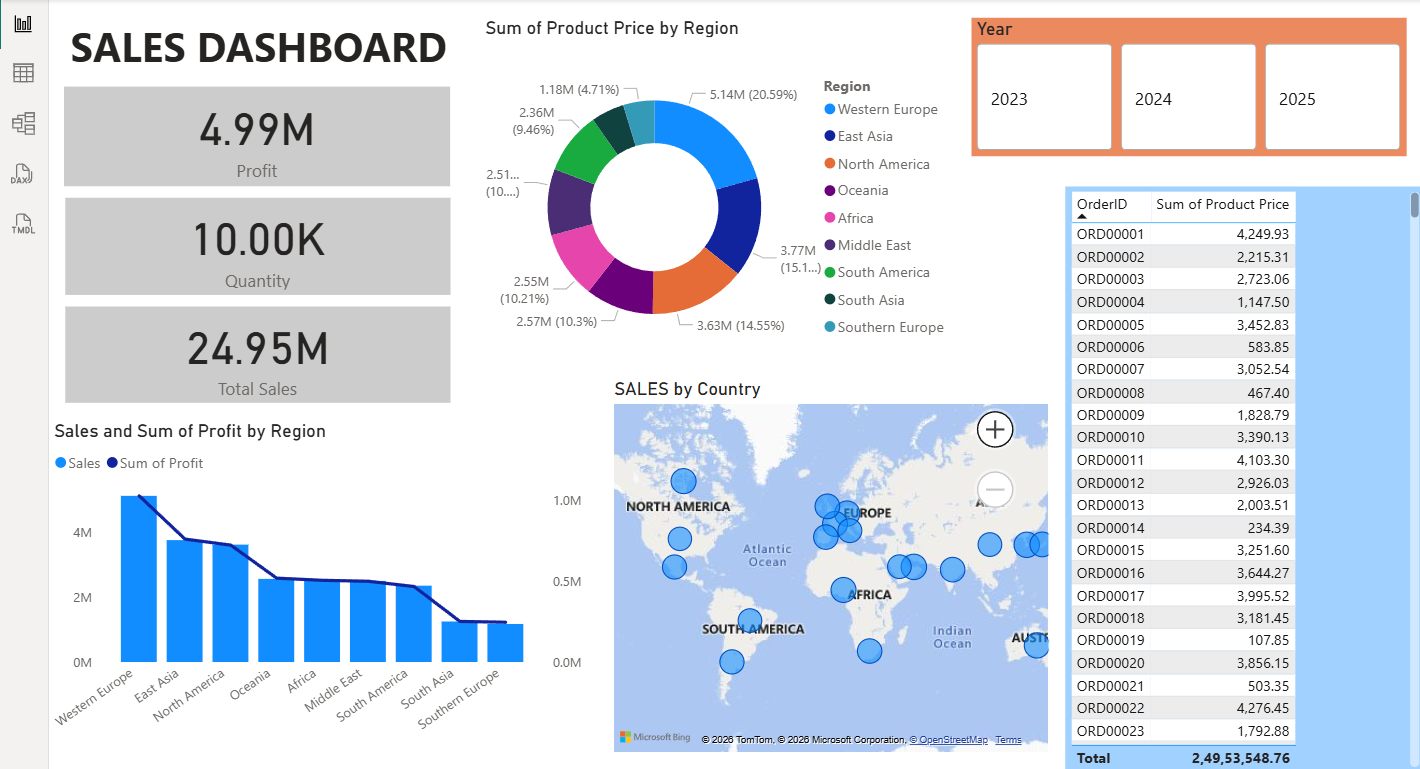

What the dashboard file says about the page in this screenshot:
{"tool":"powerbi","page":{"name":"Page 1","canvas":[1280,720],"ordinal":0},"visuals":[{"type":"card","fields":{"Values":["Sum(Orders.Product Price)"]},"box":[15.1,286,358.1,89.5],"z":0},{"type":"card","fields":{"Values":["CountNonNull(Orders.OrderID)"]},"box":[15.1,184.9,358.1,90.7],"z":1000},{"type":"card","fields":{"Values":["Sum(Orders.Profit)"]},"box":[14,81.4,359.3,93],"z":2000},{"type":"lineStackedColumnComboChart","fields":{"Category":["Orders.Region"],"Y":["Sum(Orders.Product Price)"],"Y2":["Sum(Orders.Profit)"]},"box":[0,391.9,501.2,305.8],"z":3000},{"type":"textbox","box":[15.1,14,373.3,67.4],"z":4000},{"type":"map","fields":{"Size":["Sum(Orders.Product Price)"],"Category":["Orders.Country"]},"box":[520.9,352.3,414,353.5],"z":5000},{"type":"donutChart","fields":{"Y":["Sum(Orders.Product Price)"],"Category":["Orders.Region"]},"box":[401.2,16.3,445.4,336],"z":6000},{"type":"advancedSlicerVisual","fields":{"Values":["Orders.Order Date.Variation.Date Hierarchy.Year"]},"box":[858.1,17.4,404.7,129.1],"z":7000},{"type":"tableEx","fields":{"Values":["Orders.OrderID","Sum(Orders.Product Price)"]},"box":[945.4,174.4,334.9,545.4],"z":8000}]}

Visuals, with their boxes on the page's 1280x720 design canvas (x1, y1, x2, y2). These are canvas units, not pixel positions in the 1420x769 screenshot, which may show the page scaled, cropped or inside an application window:
card - Sum(Orders.Product Price): <region>15, 286, 373, 376</region>
card - CountNonNull(Orders.OrderID): <region>15, 185, 373, 276</region>
card - Sum(Orders.Profit): <region>14, 81, 373, 174</region>
lineStackedColumnComboChart - Orders.Region x Sum(Orders.Product Price): <region>0, 392, 501, 698</region>
textbox: <region>15, 14, 388, 81</region>
map - Sum(Orders.Product Price) x Orders.Country: <region>521, 352, 935, 706</region>
donutChart - Sum(Orders.Product Price) x Orders.Region: <region>401, 16, 847, 352</region>
advancedSlicerVisual - Orders.Order Date.Variation.Date Hierarchy.Year: <region>858, 17, 1263, 146</region>
tableEx - Orders.OrderID x Sum(Orders.Product Price): <region>945, 174, 1280, 720</region>
